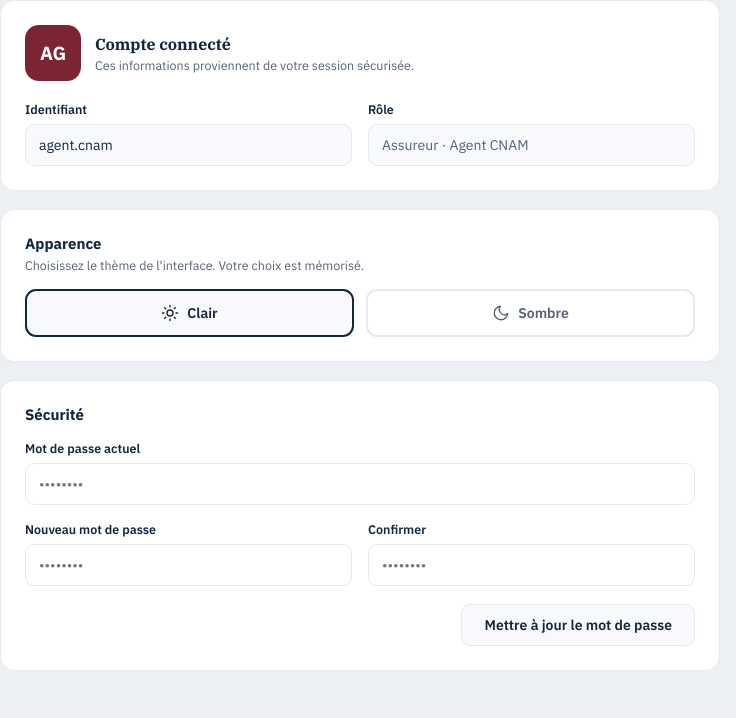
Parametres › refuse une confirmation différente sans appel réseau
The width and height of the screenshot is (736, 718).
In the password field labelled "Mot de passe actuel": (360, 484) [25,463,695,505], type "Ancien-2026"
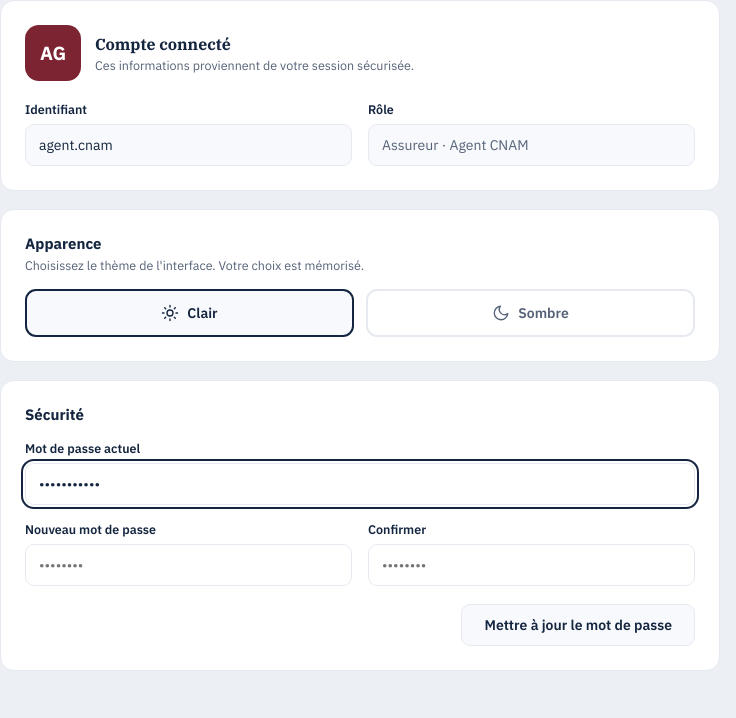
In the password field labelled "Nouveau mot de passe": (188, 565) [25,544,352,586], type "Nouveau-2026"
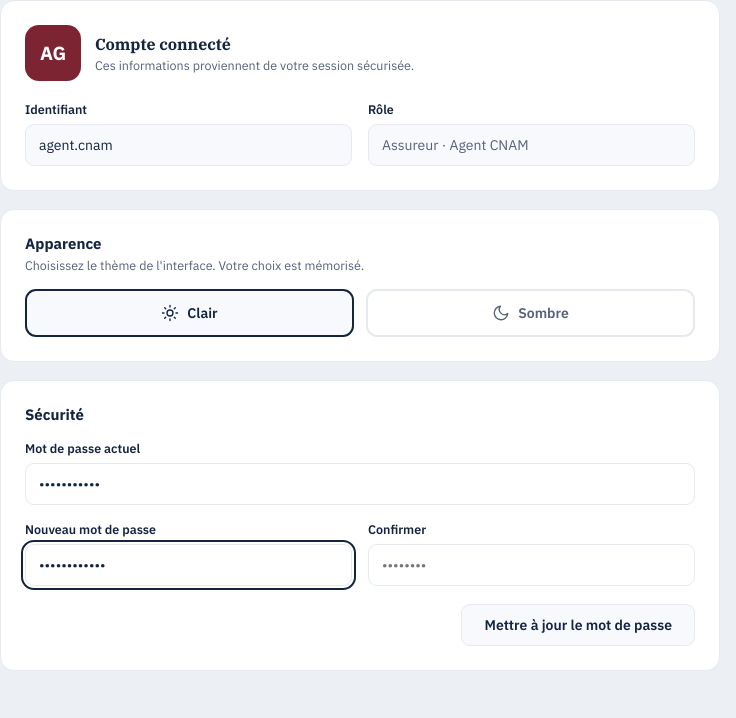
In the password field labelled "Confirmer": (532, 565) [368,544,695,586], type "Autre-2026"
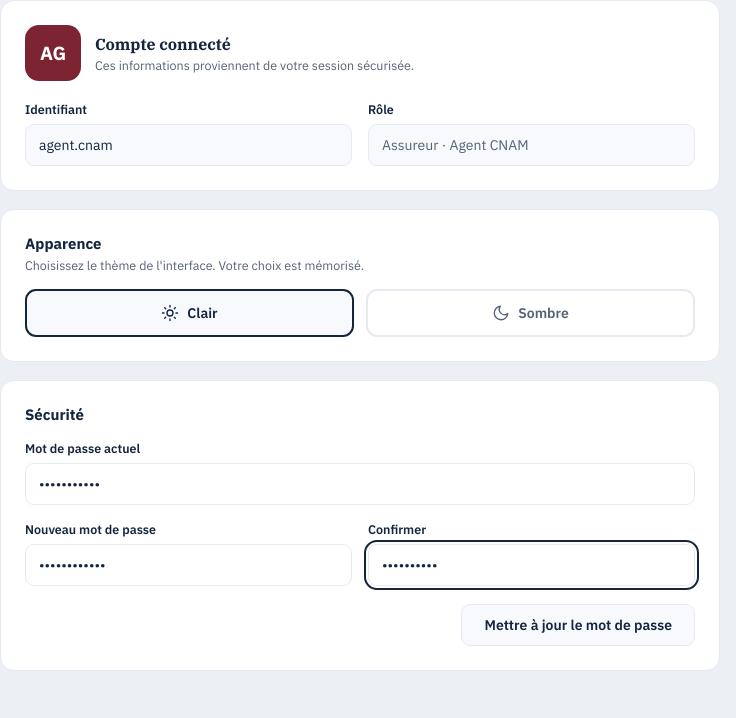
Click the button "Mettre à jour le mot de passe": (578, 625) [462,604,695,646]
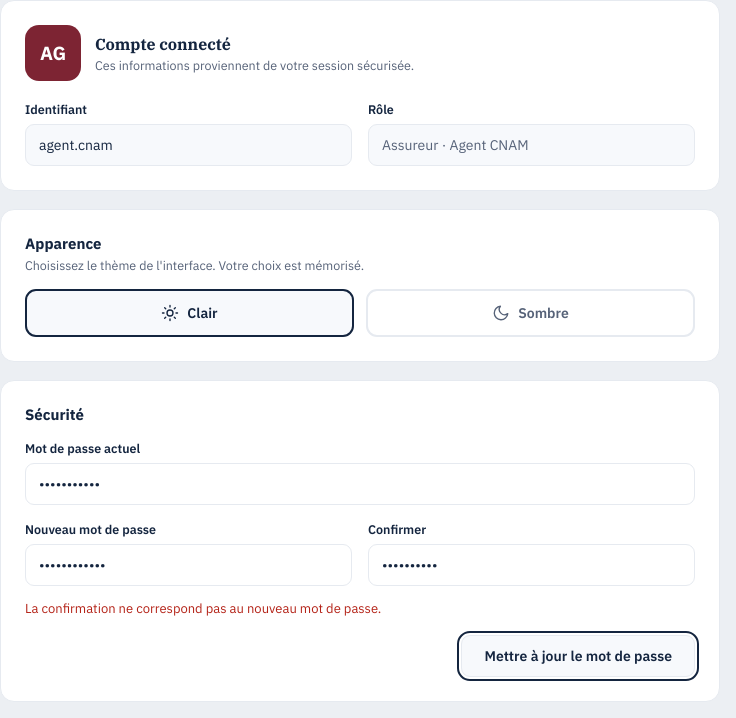
Expected: the message shows "La confirmation ne correspond pas", [25,600,381,617]
